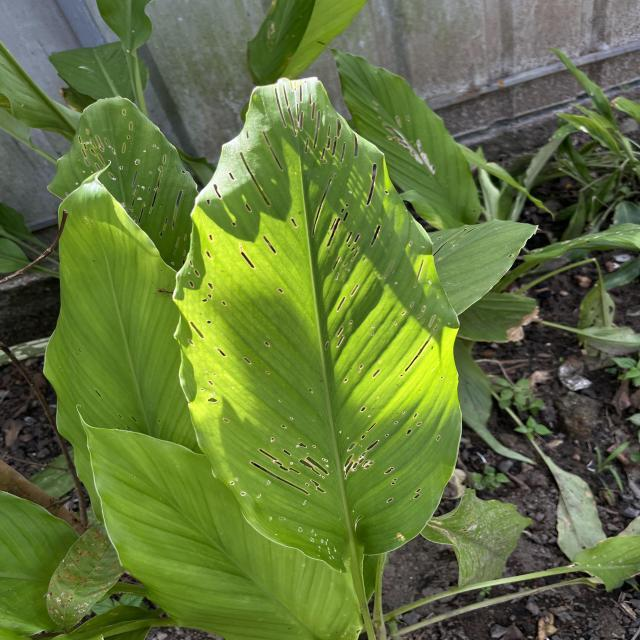Curcuma longa: (173, 73, 467, 575), (72, 403, 364, 640), (41, 154, 191, 449)
